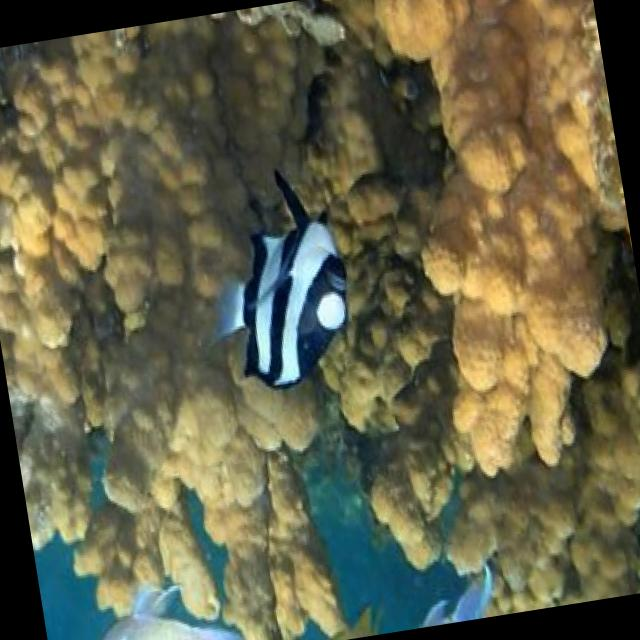ThreeStripedDamselfish: (212, 167, 348, 390)
